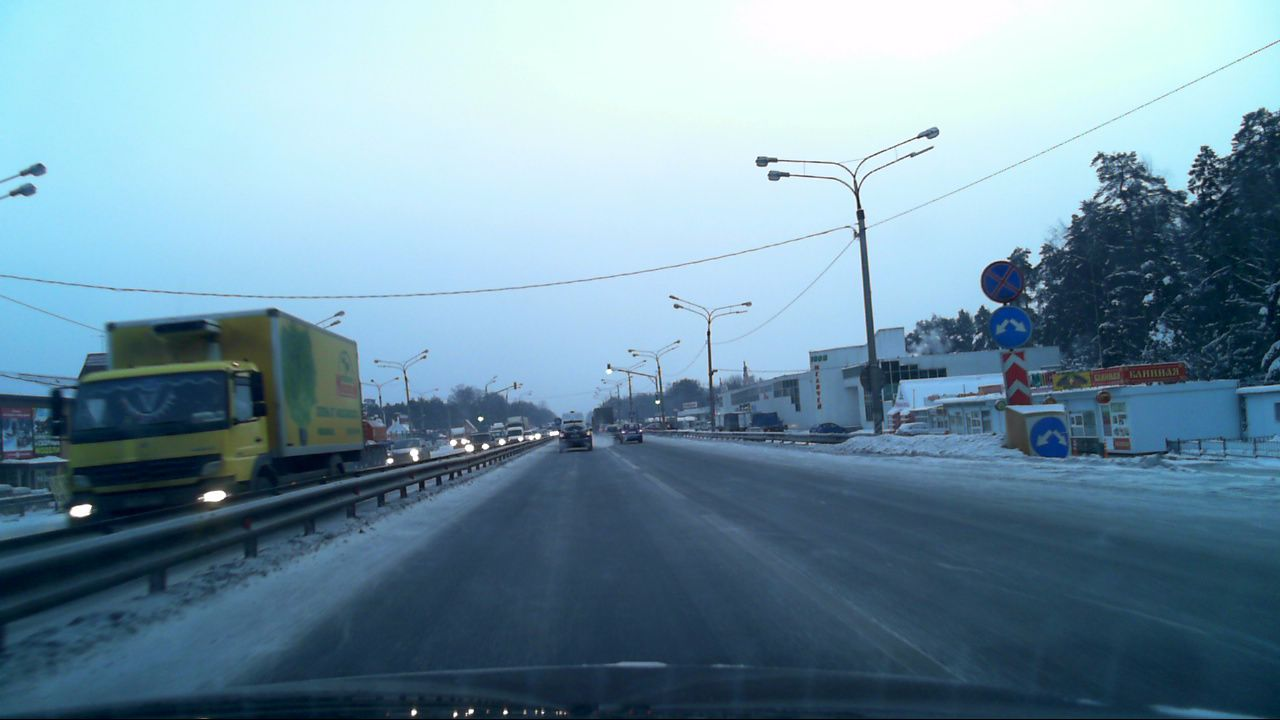No Parking: (979, 260, 1024, 304)
